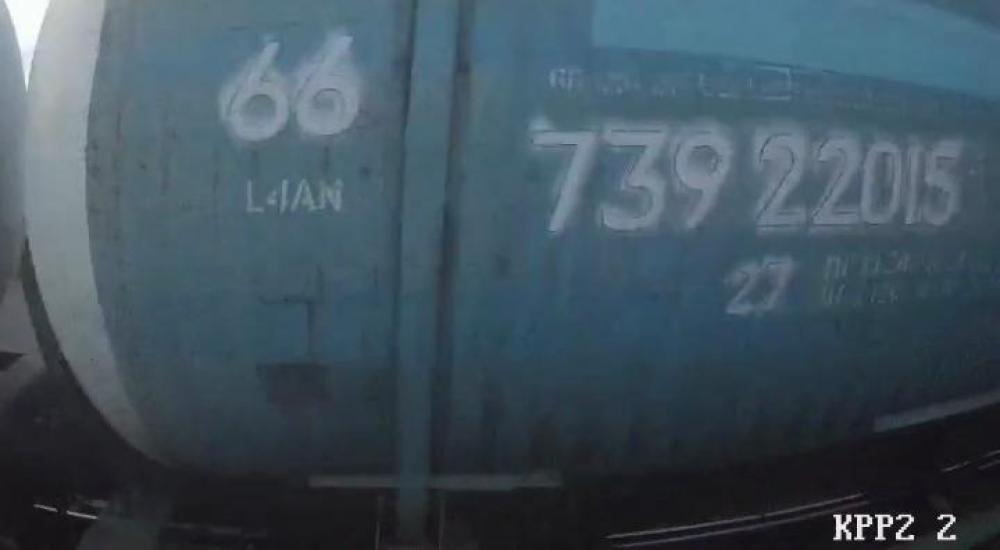Wagon-number: (530, 123, 966, 241)
